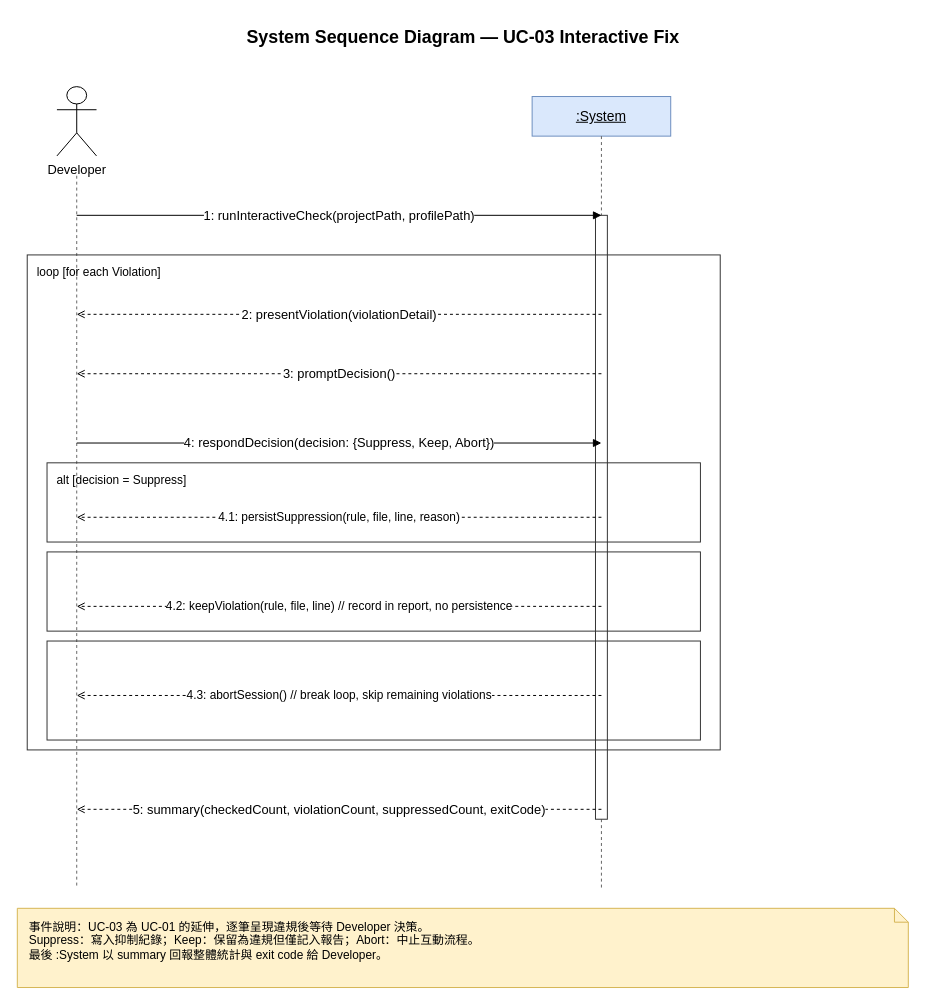
This 926x1005 diagram has some shape labels left out. Here are the shapes that lost their labels. From the top down, the box of each, then its label:
(46, 551, 700, 631): else [decision = Keep]
(46, 640, 700, 740): else [decision = Abort]
